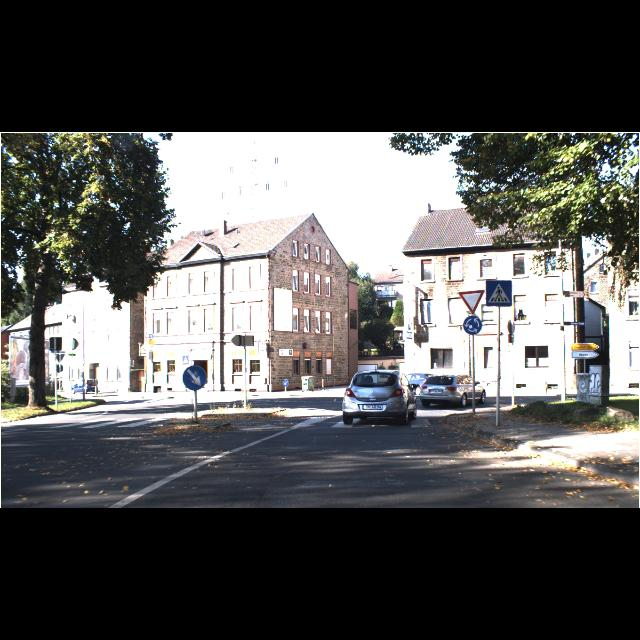mandatory: (182, 364, 208, 392), (462, 315, 482, 335)
other: (458, 290, 486, 316)
